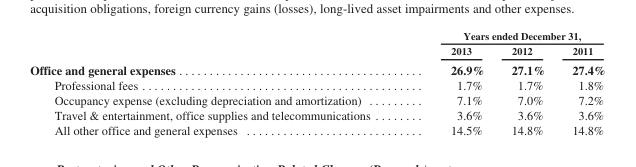table: (29, 29, 605, 136)
table column: (29, 29, 409, 136), (409, 29, 497, 136), (497, 29, 557, 136), (557, 29, 605, 136)
table column header: (29, 29, 605, 59)
table row: (29, 59, 605, 77), (29, 42, 605, 59), (29, 77, 605, 92), (29, 92, 605, 107), (29, 107, 605, 122), (29, 122, 605, 136), (29, 29, 605, 42)
table spanning cell: (409, 29, 605, 42)
